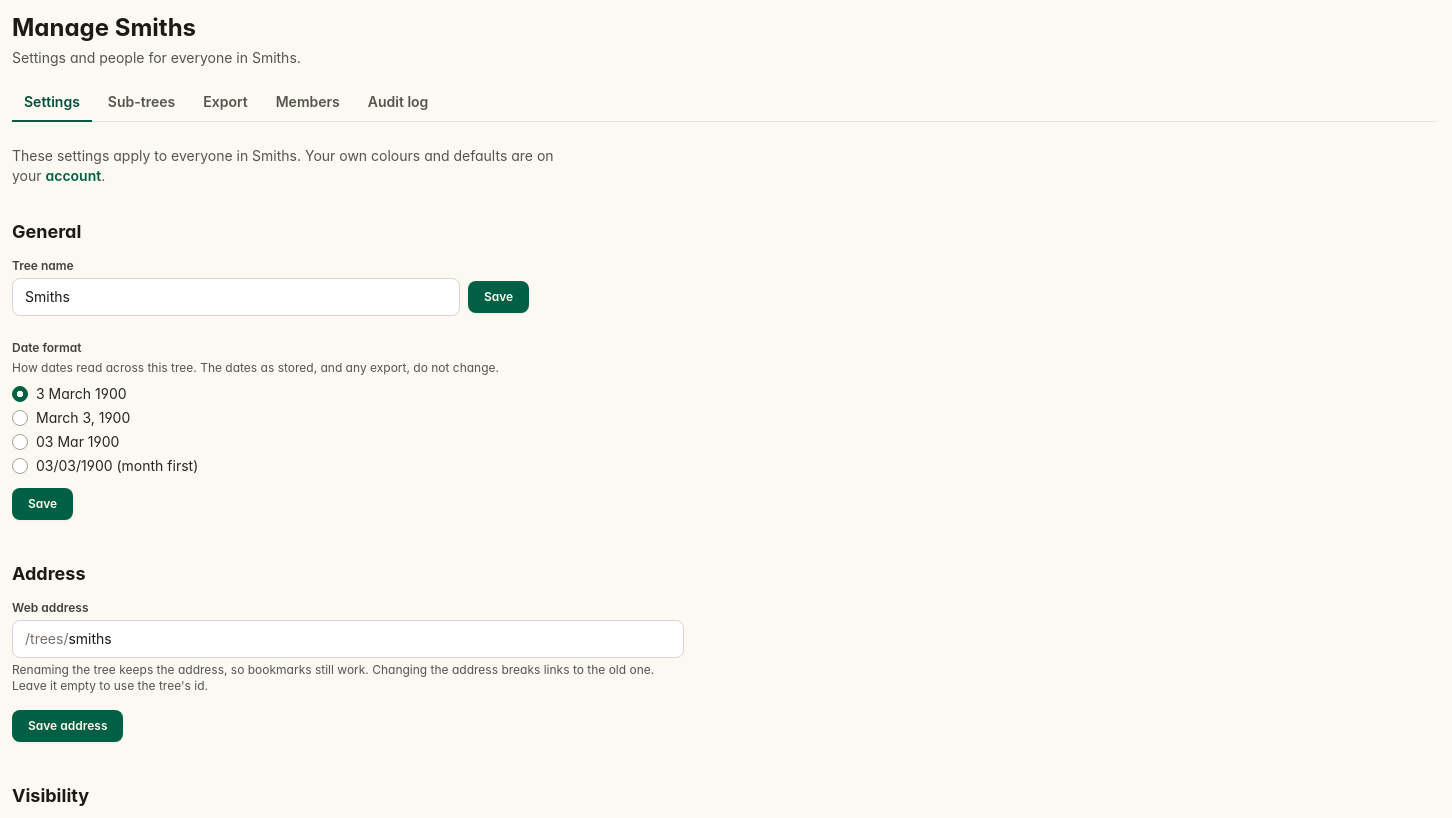
Test: tree settings page › sends nothing when the address is unchanged, and refuses a malformed one
This screenshot has width=1452, height=818.
Replace the text in the field with id "tree-slug" with "Not A Slug" at coordinates (376, 639), box [68, 621, 683, 657]
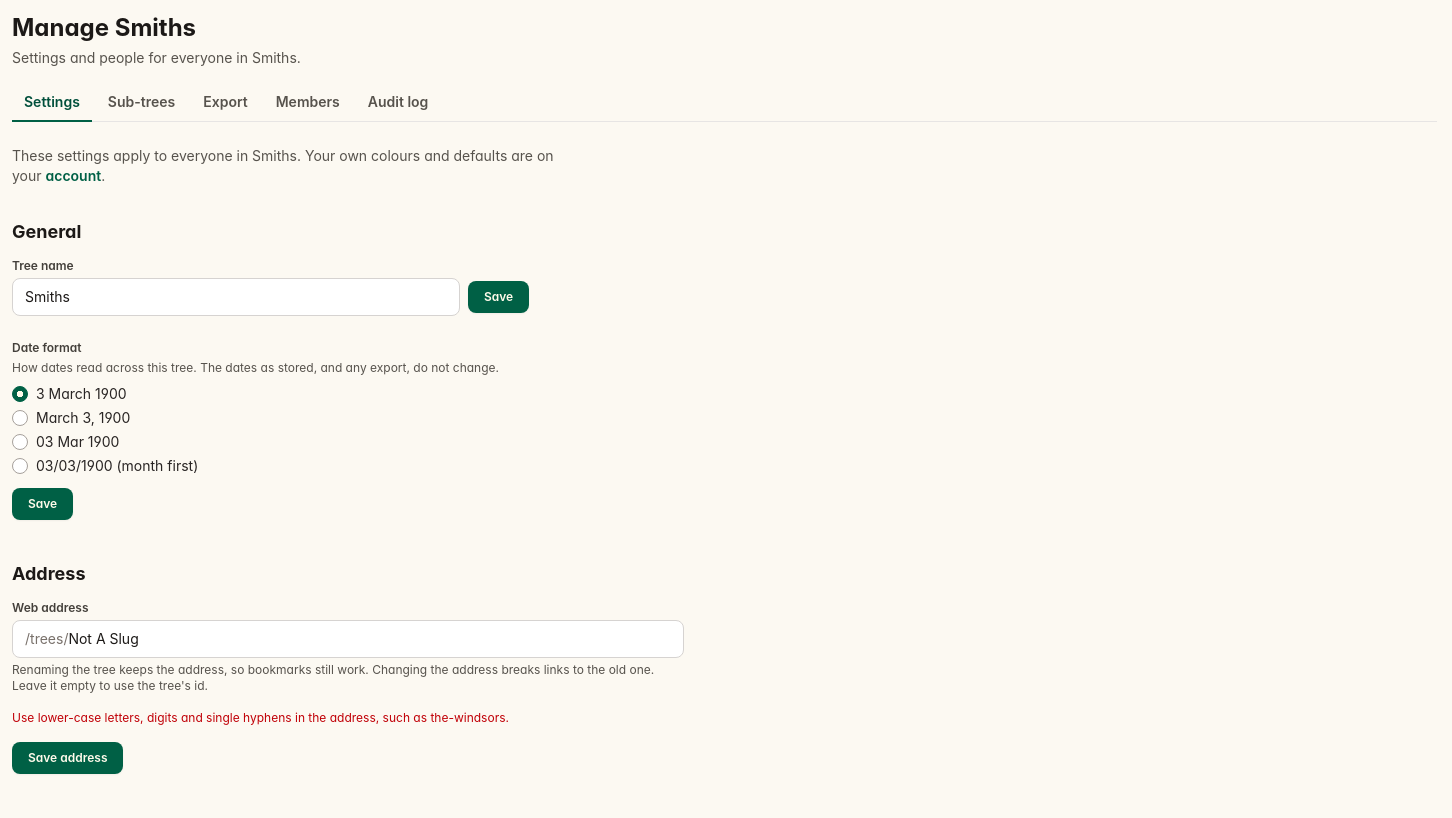
Result: the message shows "lower-case letters" at [12, 710, 509, 725]
